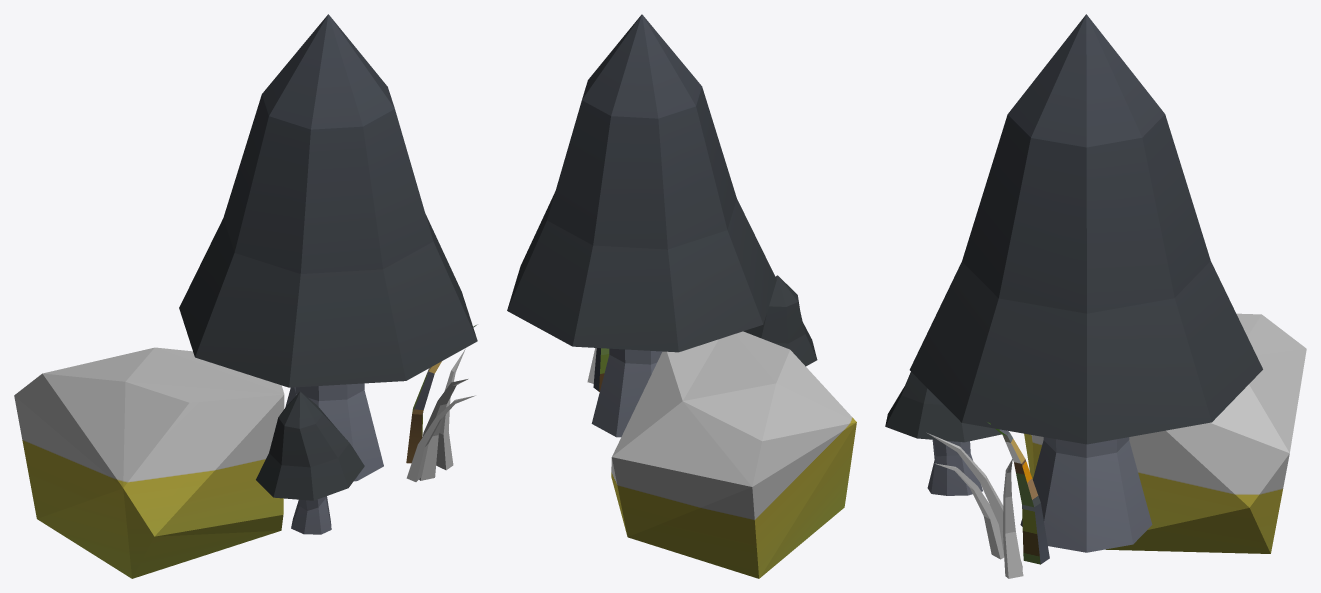
File: Mushroom_09.fbx
3 renders of one model, left to right at view 1: azimuth 30°, elevation 25°; view 2: azimuth 150°, elevation 25°; view 3: azimuth 270°, elevation 25°, orthographic. The views are drawn at different scales.
Parts seen in each view (by area): view 1: Mushroom_09; view 2: Mushroom_09; view 3: Mushroom_09.
Boxes of the visible parts, x1=… form: Mushroom_09: x1=14, y1=14, x2=477, y2=578; Mushroom_09: x1=507, y1=14, x2=856, y2=578; Mushroom_09: x1=885, y1=14, x2=1306, y2=578.
Size of the model in its own units: 1.01 by 1.39 by 0.9043.
